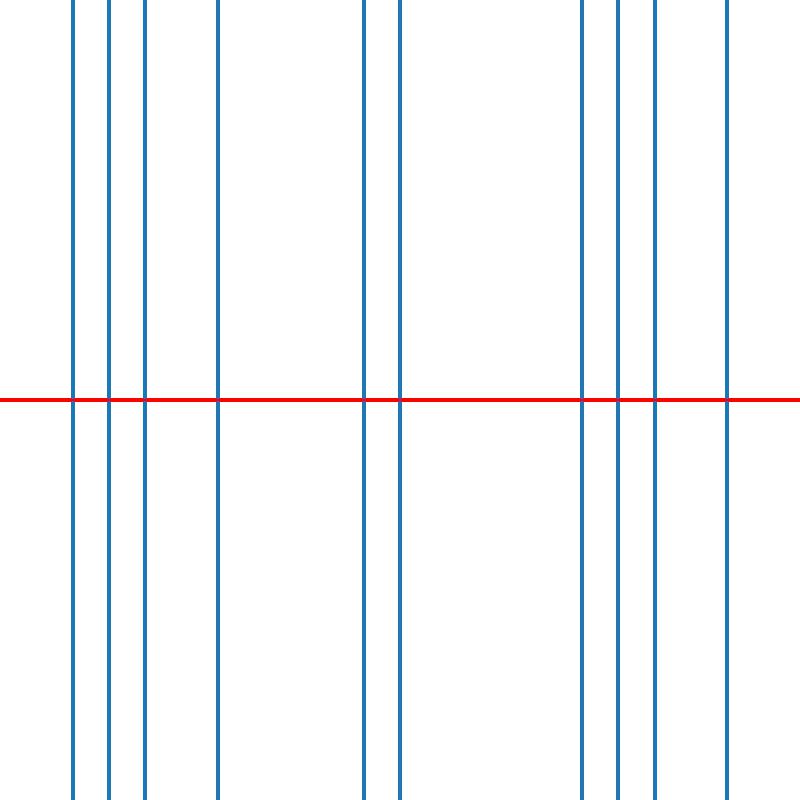root: (141, 396, 149, 404), (650, 396, 658, 404), (723, 396, 730, 404), (69, 396, 76, 404), (614, 396, 621, 404), (578, 396, 585, 404), (396, 396, 403, 404), (214, 396, 221, 404), (360, 396, 367, 404), (105, 396, 112, 404)
